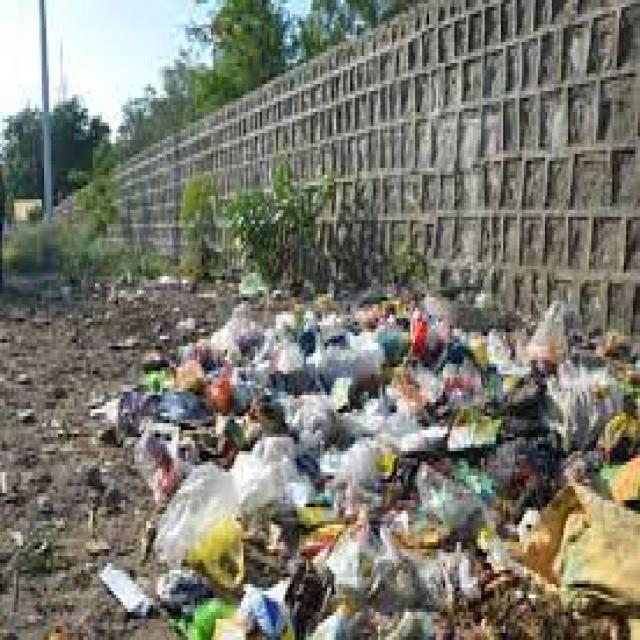plastic: (245, 333, 634, 596)
